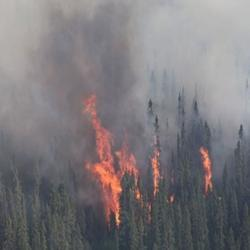fire: (103, 174, 121, 217), (98, 127, 114, 163), (204, 146, 213, 187)
smoke: (24, 89, 74, 163)
